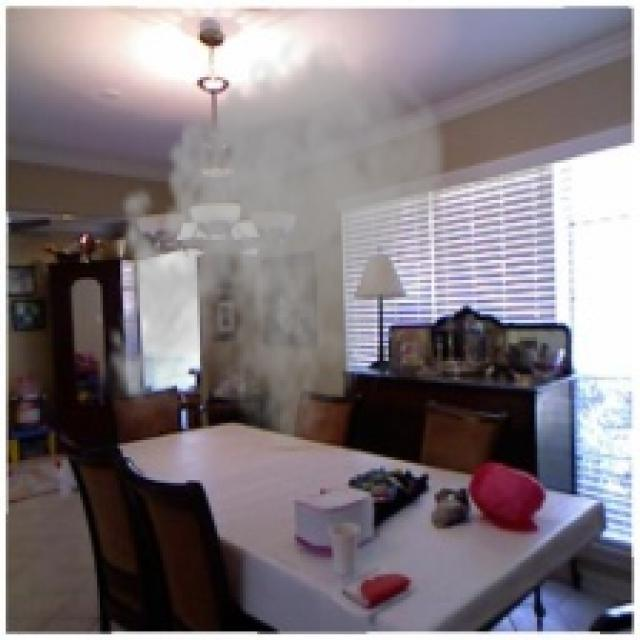Smoke: (97, 29, 454, 452)
